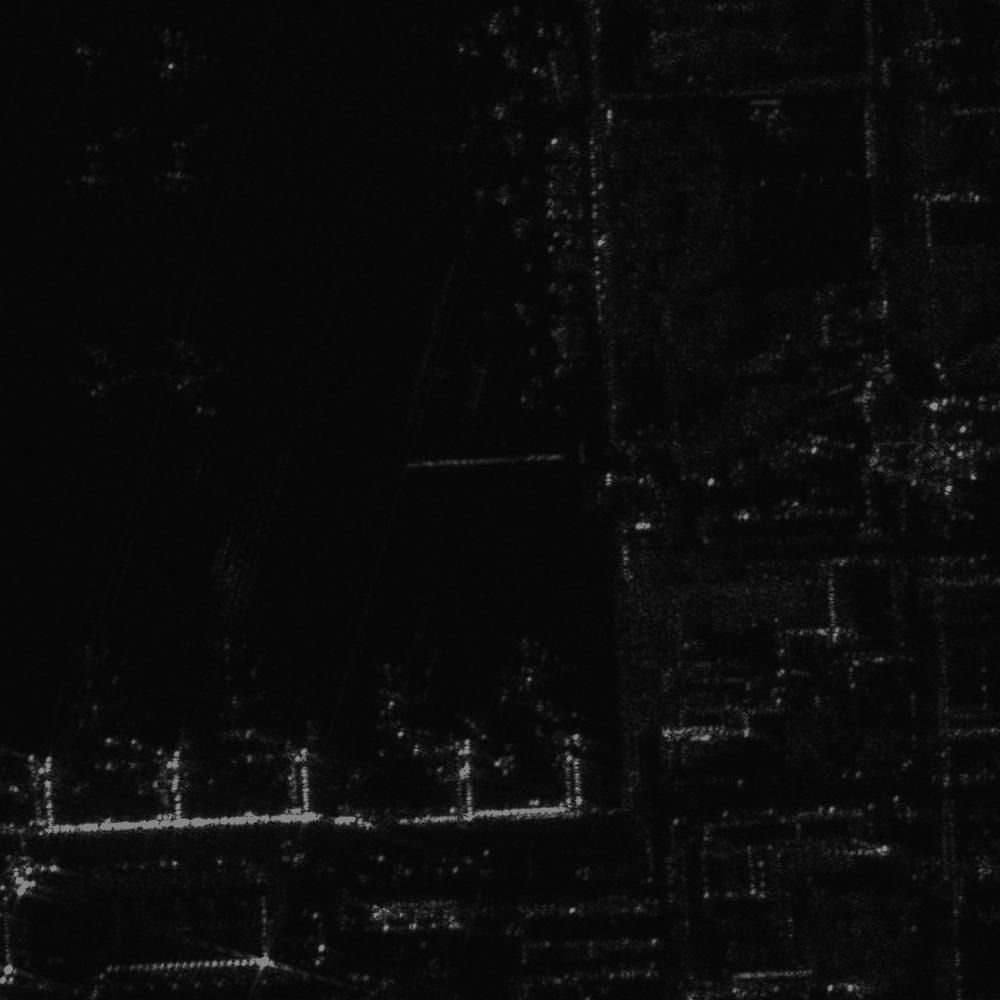A220: (45, 644, 159, 744), (487, 632, 582, 723), (148, 335, 228, 407), (56, 138, 133, 204)
ARJ21: (151, 138, 213, 199)
Boeing787: (191, 638, 281, 745), (353, 663, 435, 739)
other: (64, 342, 143, 417), (134, 24, 210, 97), (60, 32, 115, 96)
